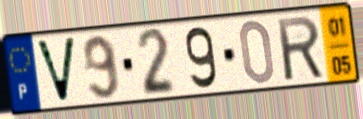0: (237, 18, 277, 87)
2: (135, 26, 178, 101)
9: (81, 33, 121, 102), (183, 24, 219, 90)
R: (275, 13, 327, 84)
V: (33, 35, 79, 106)
